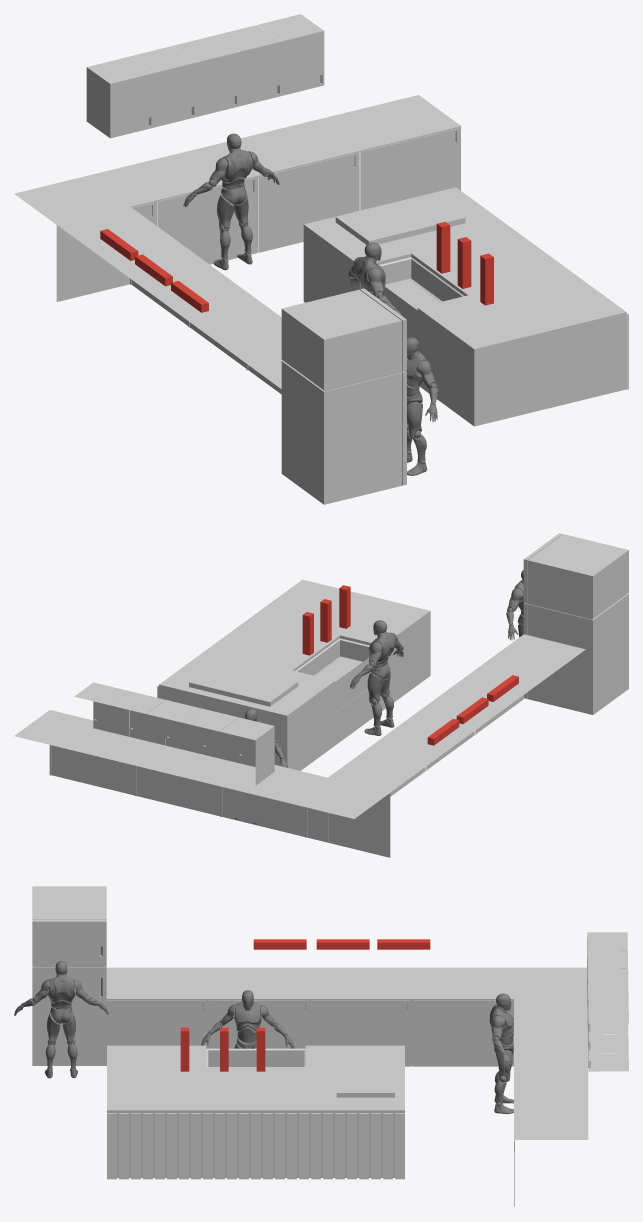
Rendered from base-kitchen.glb.
3 views of the same model, one above another, from view 1: azimuth 30°, elevation 25°; view 2: azimuth 150°, elevation 25°; view 3: azimuth 270°, elevation 25° (orthographic). The views are drawn at different scales.
Parts seen in each view (by area): view 1: Back .001, Middle Block, Fridge, Back .002, Back, polySurface171.001, Stove, Cinque, polySurface171.002, polySurface171, Focet 001, Focet 002 (+1 smaller); view 2: Middle Block, Back .001, Fridge, Back .002, Back, Stove, Cinque, polySurface171, polySurface171.002, Focet 003, Focet 002, Focet 001; view 3: Back, Middle Block, wood panels, Back .001, Fridge, Back .002, polySurface171.002, Stove, polySurface171.001, polySurface171, Cinque, hanger 001 (+2 smaller).
Boxes of the visible parts, bbox=[...] form: Back .001: bbox=[14, 95, 461, 301]; Middle Block: bbox=[303, 187, 626, 426]; Fridge: bbox=[281, 288, 406, 504]; Back .002: bbox=[86, 14, 324, 138]; Back: bbox=[56, 206, 282, 394]; polySurface171.001: bbox=[183, 133, 279, 270]; Stove: bbox=[335, 193, 465, 244]; Cinque: bbox=[361, 257, 464, 339]; polySurface171.002: bbox=[406, 337, 438, 475]; polySurface171: bbox=[347, 242, 402, 316]; Focet 001: bbox=[436, 221, 450, 273]; Focet 002: bbox=[457, 237, 471, 288]; Middle Block: bbox=[159, 579, 430, 770]; Back .001: bbox=[14, 710, 390, 857]; Fridge: bbox=[523, 533, 628, 714]; Back .002: bbox=[74, 682, 274, 785]; Back: bbox=[328, 634, 585, 842]; Stove: bbox=[189, 662, 298, 706]; Cinque: bbox=[295, 638, 370, 712]; polySurface171: bbox=[350, 620, 403, 735]; polySurface171.002: bbox=[506, 570, 524, 640]; Focet 003: bbox=[339, 585, 350, 628]; Focet 002: bbox=[320, 599, 331, 642]; Focet 001: bbox=[302, 612, 313, 655]; Back: bbox=[106, 967, 514, 1066]; Middle Block: bbox=[107, 1045, 404, 1177]; wood panels: bbox=[107, 1113, 404, 1179]; Back .001: bbox=[514, 967, 588, 1206]; Fridge: bbox=[32, 886, 106, 1065]; Back .002: bbox=[587, 932, 628, 1071]; polySurface171.002: bbox=[14, 961, 108, 1078]; Stove: bbox=[336, 1051, 394, 1097]; polySurface171.001: bbox=[489, 993, 513, 1114]; polySurface171: bbox=[201, 990, 294, 1048]; Cinque: bbox=[206, 1048, 305, 1066]; hanger 001: bbox=[253, 939, 306, 949].
Bounding box in the file's own units: 5.59 × 2.15 × 8.26.
